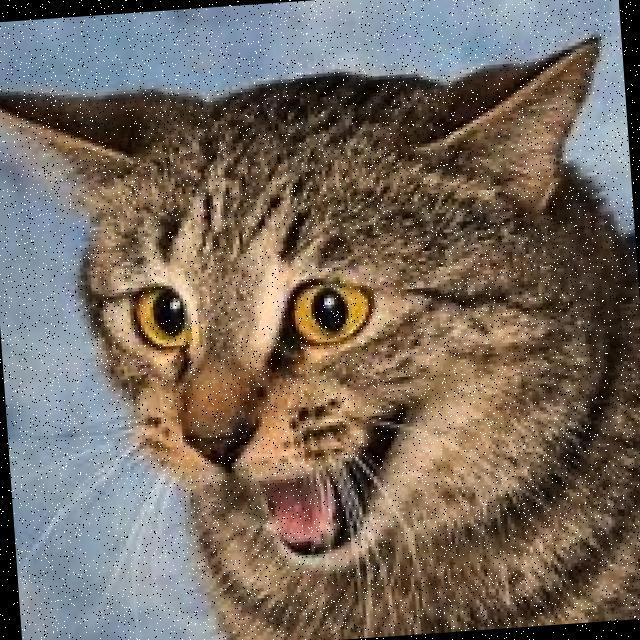Surprised: (80, 188, 452, 603)
